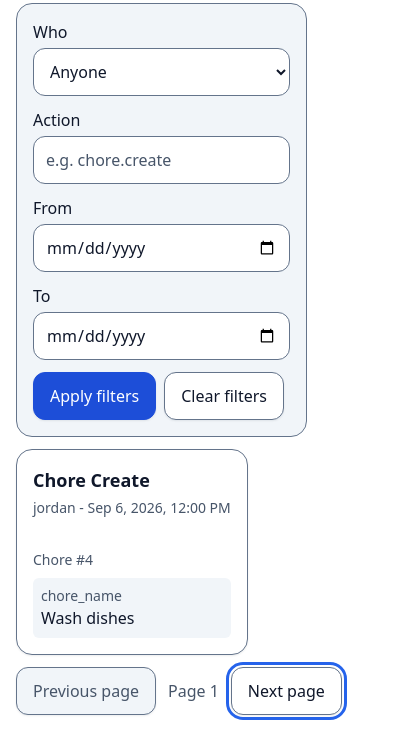
Test: pagination › next and previous page controls are real, focusable buttons
(page scrolled)
Click the button "Next page": (286, 691) [231,667,342,715]
(page scrolled)
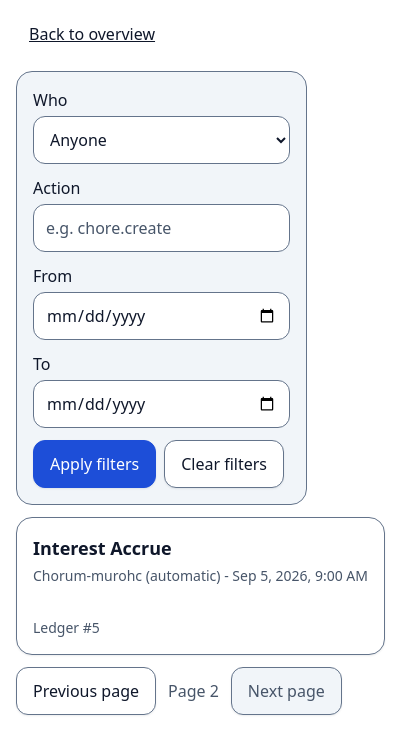
Expected: the heading "Interest Accrue" is shown, [33,536,172,560]
Expected: the button "Previous page" is enabled, [16,667,156,715]
